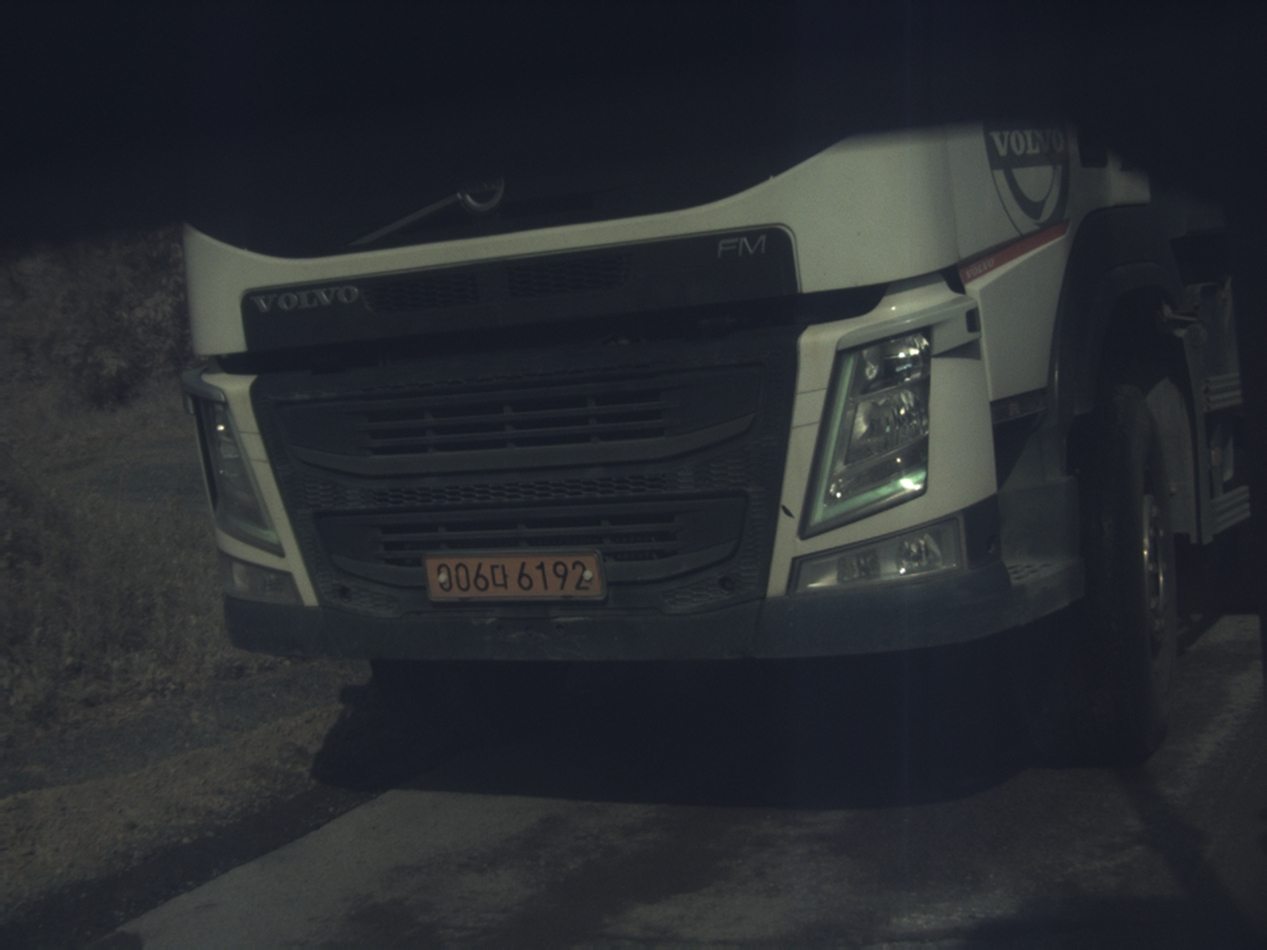license_plate: (426, 553, 604, 599)
truck: (183, 122, 1247, 757)
